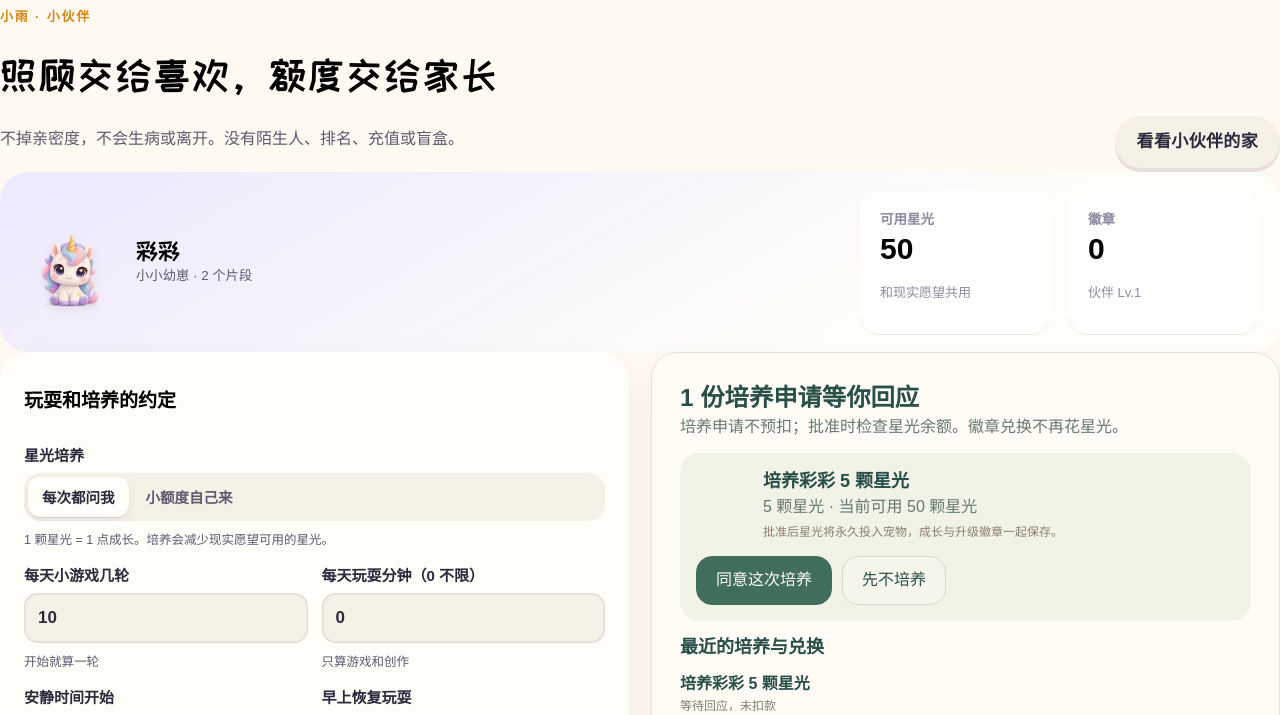
Test: child-visible star growth and badge shop › a parent can approve cultivation and sees both distinct balances
Click the button "同意这次培养" at (764, 580), box [696,556,832,605]
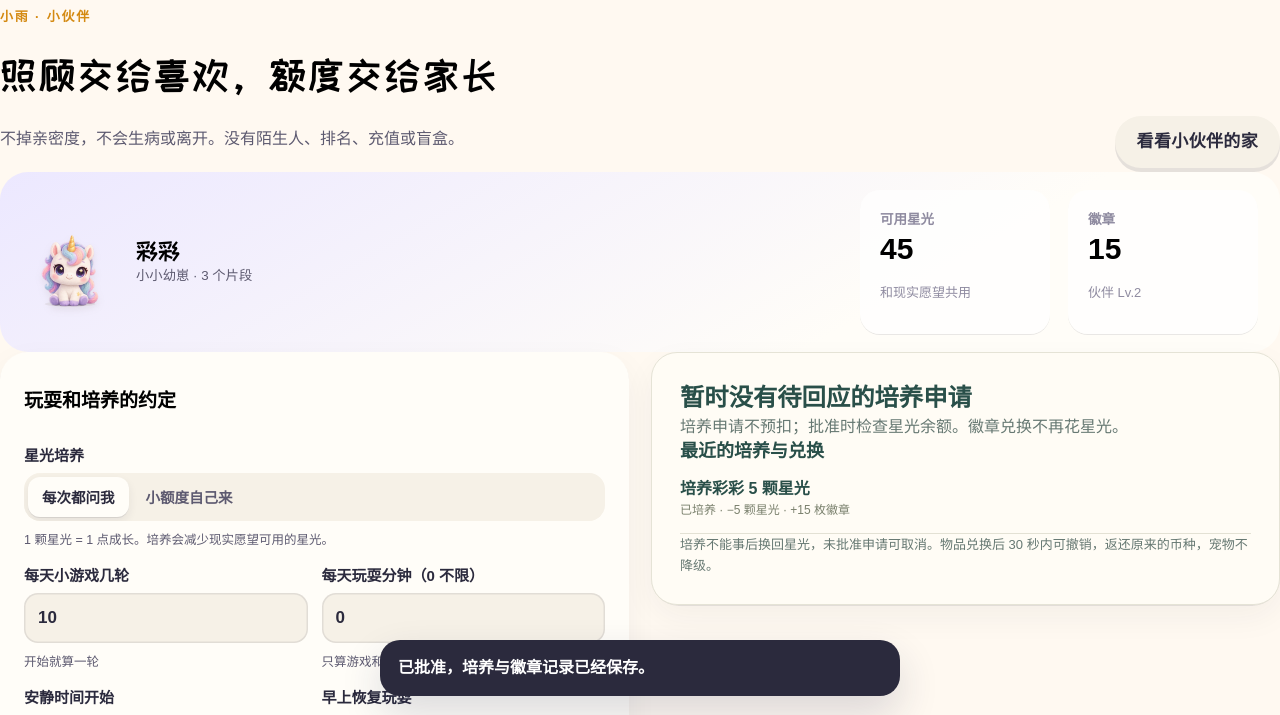
Check: the text "已培养 · −5 颗星光 · +15 枚徽章" is shown, box [680,501,850,520]
